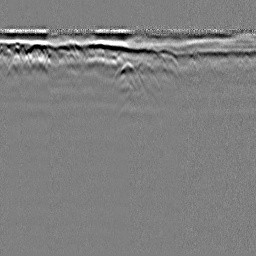cavity: (111, 60, 140, 86)
